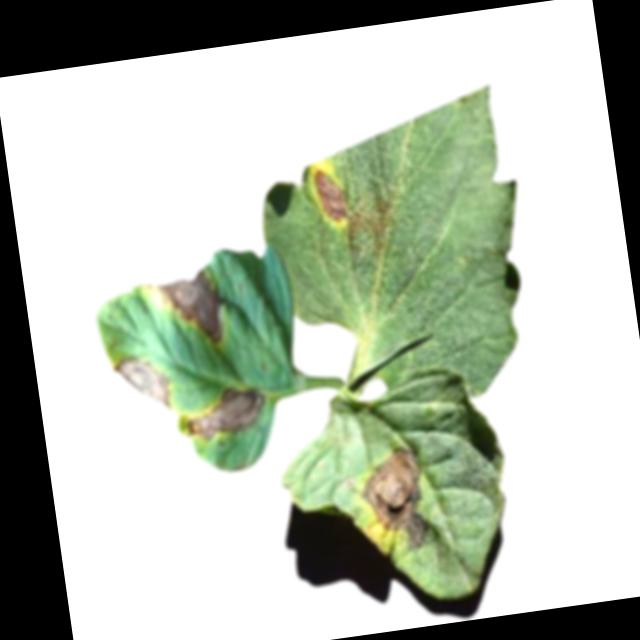Early_blight: (354, 441, 438, 554), (156, 265, 227, 349), (178, 381, 269, 445), (110, 351, 174, 415), (310, 166, 350, 226)
